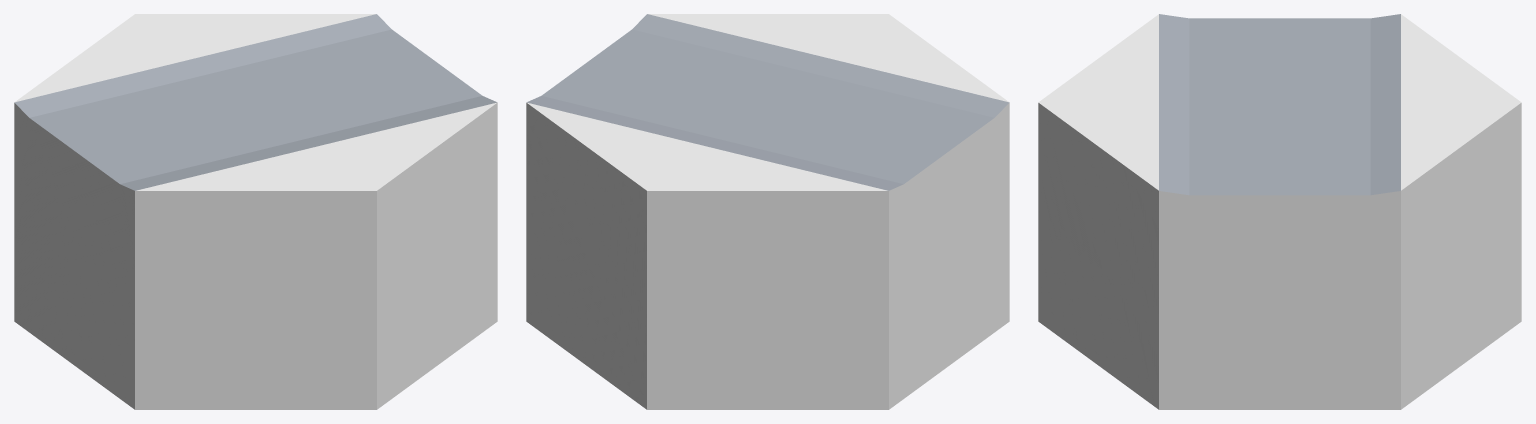
The model's file is snow_road1.fbx.
3 renders of one model, left to right at view 1: azimuth 30°, elevation 25°; view 2: azimuth 150°, elevation 25°; view 3: azimuth 270°, elevation 25°, orthographic.
Visible parts, largest first — view 1: Cylinder; view 2: Cylinder; view 3: Cylinder.
Part boxes in pixels (box(x1,y1,x2,y2)): Cylinder: box(14, 14, 497, 409); Cylinder: box(526, 14, 1009, 409); Cylinder: box(1038, 14, 1521, 409).
Size of the model in its own units: 1.73 by 1 by 2.
